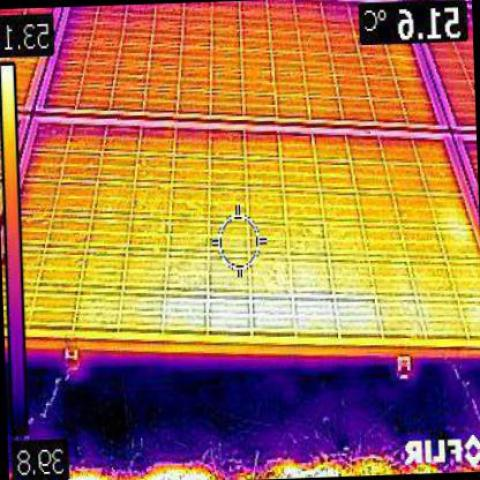fault: (162, 271, 373, 324)
